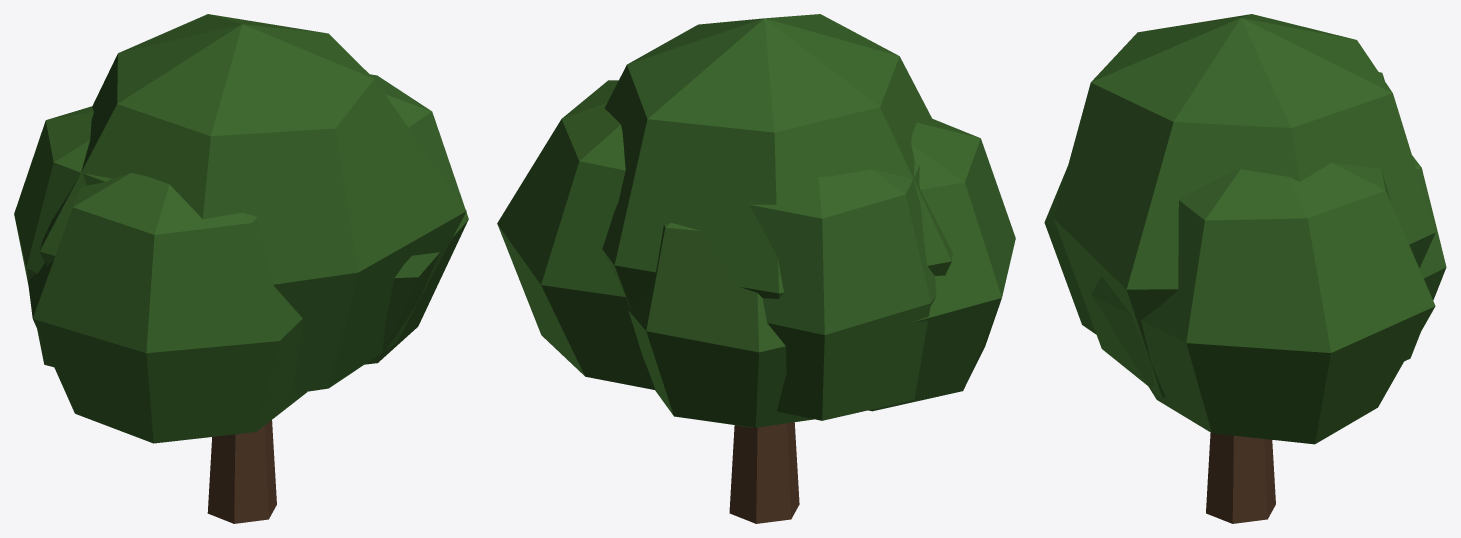
Rendered from arbol_frondoso.glb.
3 views of the same model, side by side, from view 1: azimuth 30°, elevation 25°; view 2: azimuth 150°, elevation 25°; view 3: azimuth 270°, elevation 25° (orthographic).
Visible parts, largest first — view 1: Decid_0; view 2: Decid_0; view 3: Decid_0.
Part boxes in pixels (x1,y1,x2,y2): Decid_0: [14, 14, 468, 523]; Decid_0: [497, 14, 1015, 523]; Decid_0: [1044, 14, 1446, 523].
Bounding box in the file's own units: 6.2 × 6.5 × 4.82.
